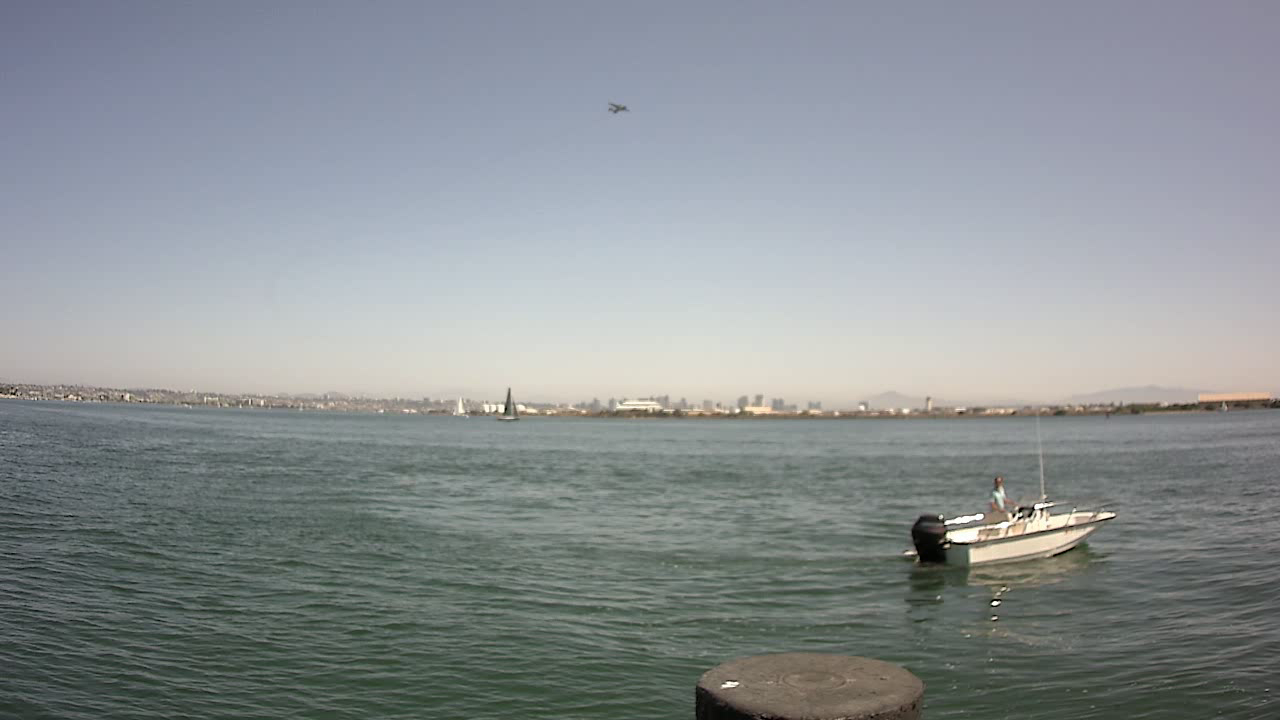target: (908, 471, 1122, 582)
